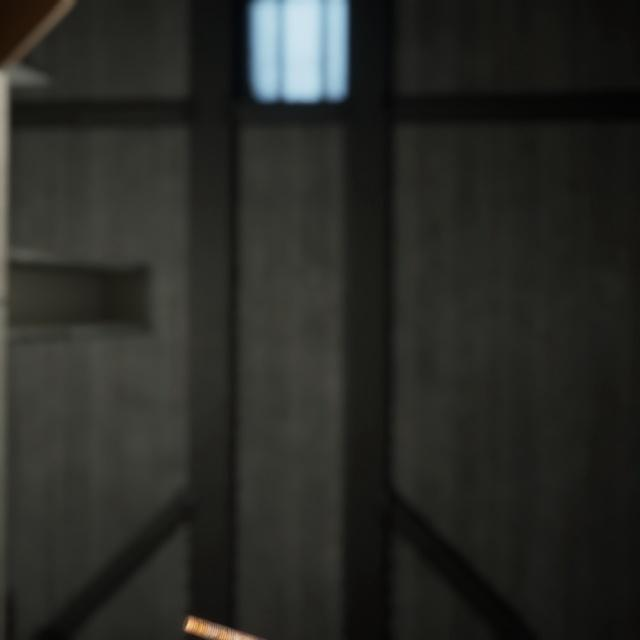bolt: (177, 585, 350, 640)
